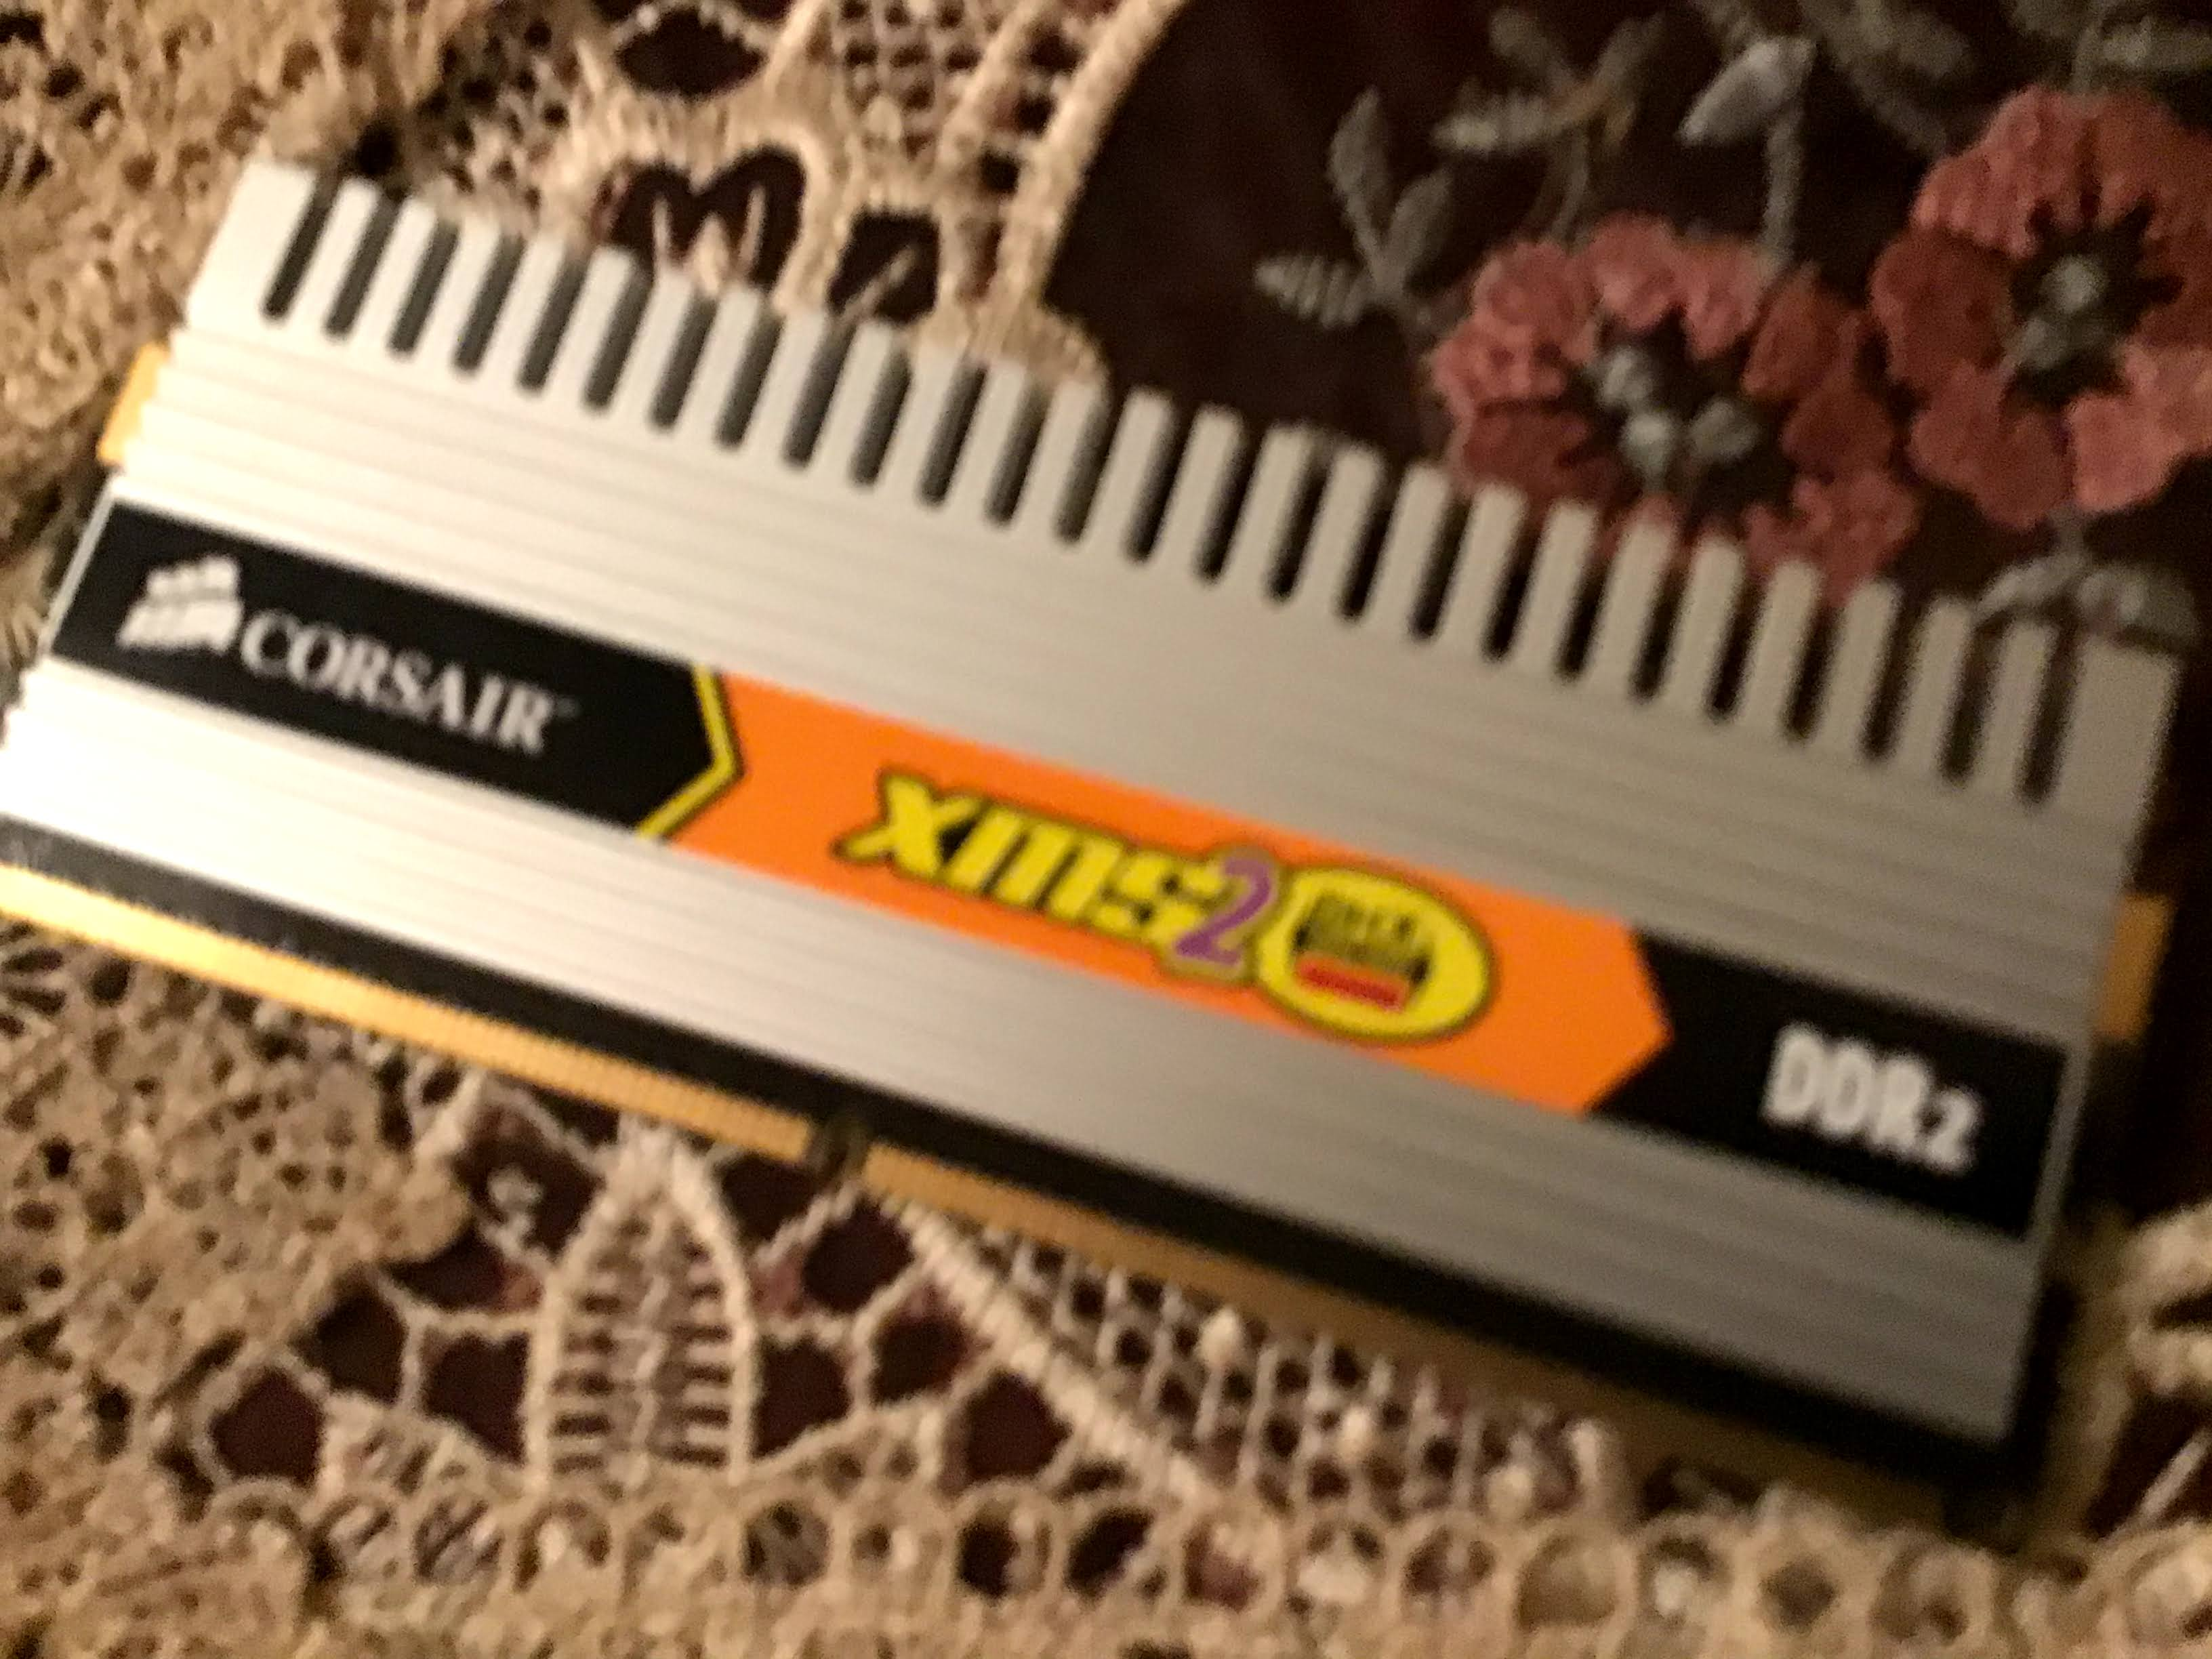Space-debris-medium: (3, 134, 2195, 1561)
